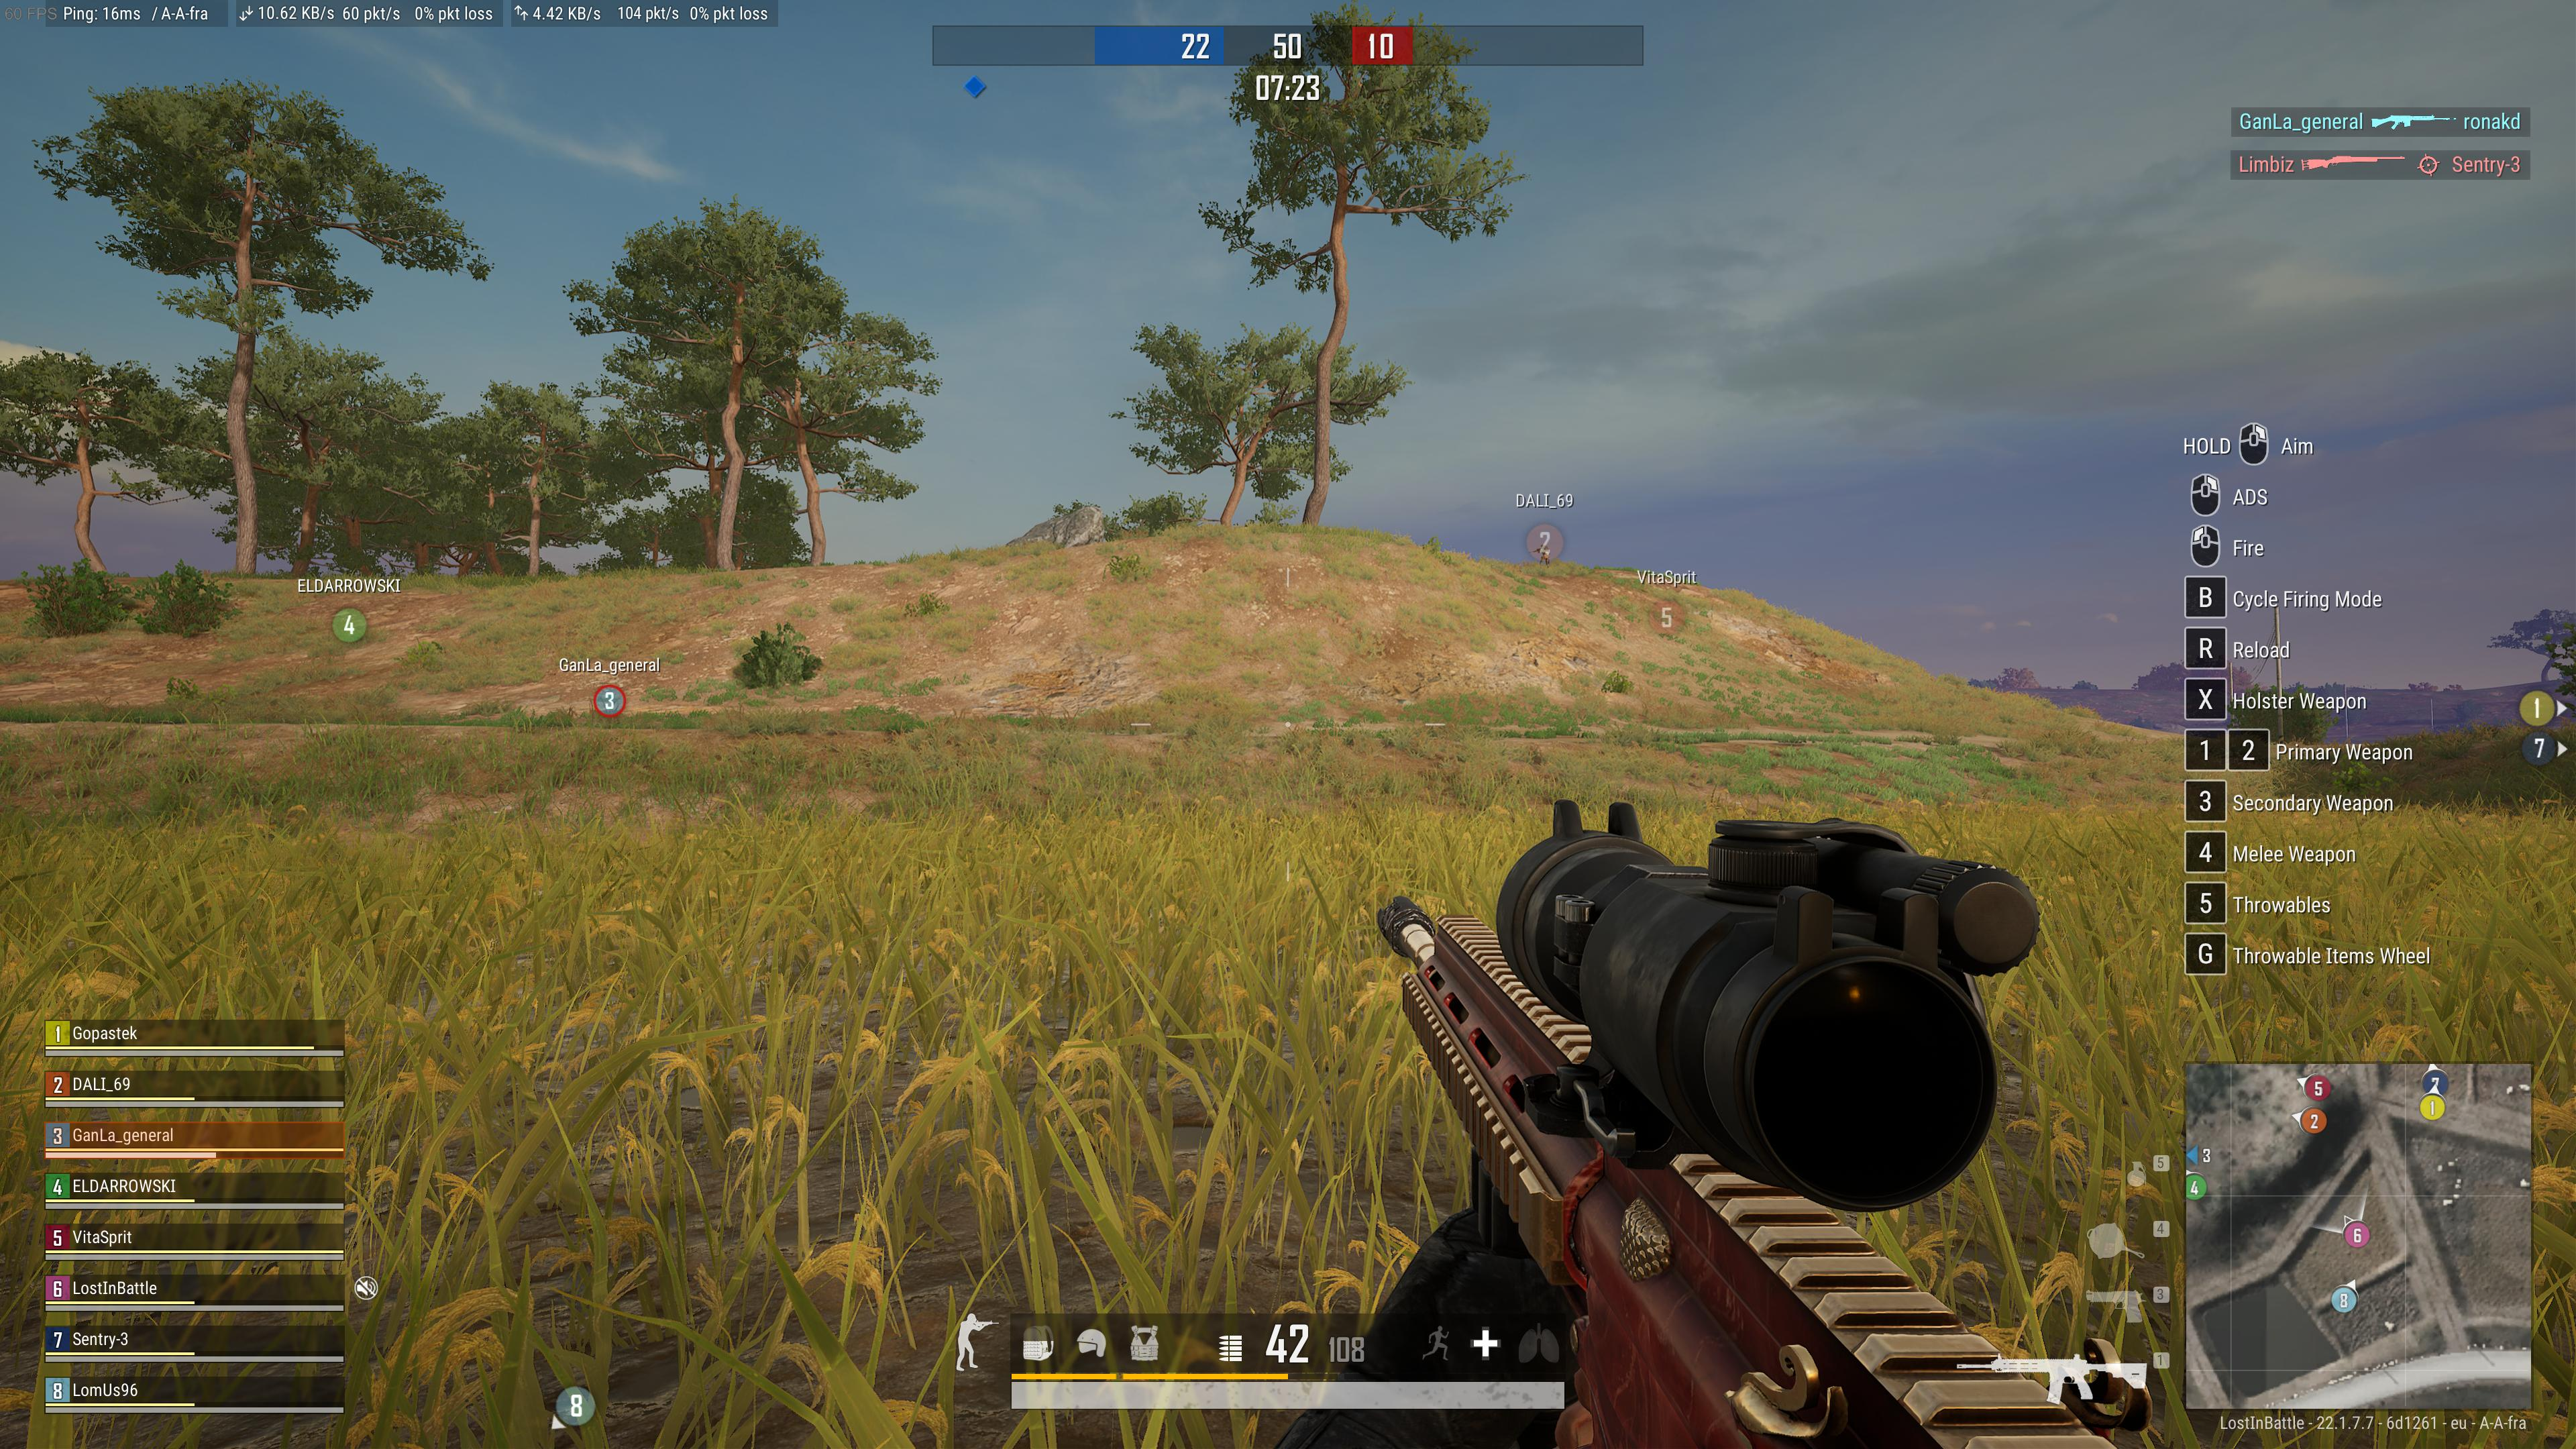friendly: (1536, 538, 1552, 570)
